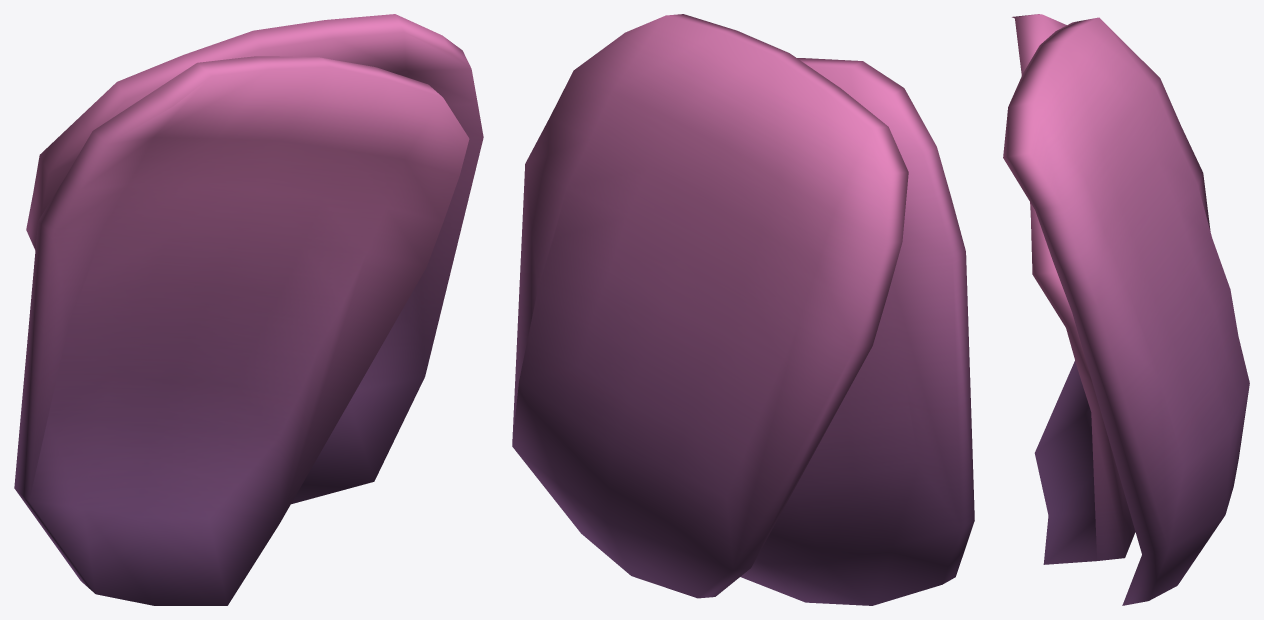
The model's file is Enemy_Roachelle_wings.fbx.
The picture shows the model from 3 angles, left to right: view 1: azimuth 30°, elevation 25°; view 2: azimuth 150°, elevation 25°; view 3: azimuth 270°, elevation 25°; orthographic projection. The views are drawn at different scales.
Parts seen in each view (by area): view 1: Cylinder.001; view 2: Cylinder.001; view 3: Cylinder.001.
Boxes of the visible parts, x1=… form: Cylinder.001: x1=14, y1=14, x2=483, y2=605; Cylinder.001: x1=512, y1=14, x2=974, y2=605; Cylinder.001: x1=1003, y1=14, x2=1249, y2=605.
Size of the model in its own units: 86.9 by 102 by 41.96.
